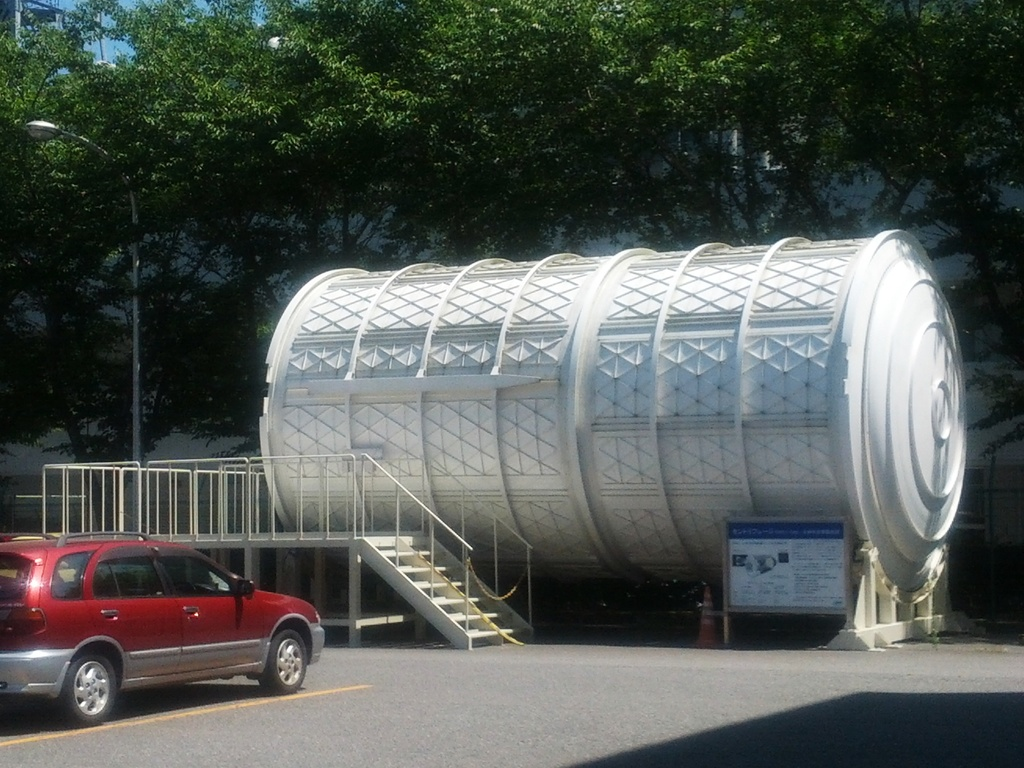Car: (0, 534, 333, 725)
